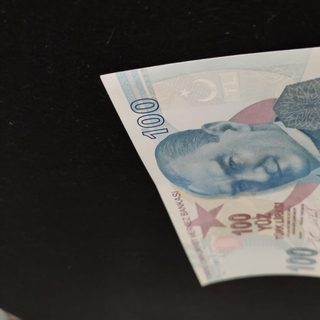100TLFront: (99, 42, 320, 288)
